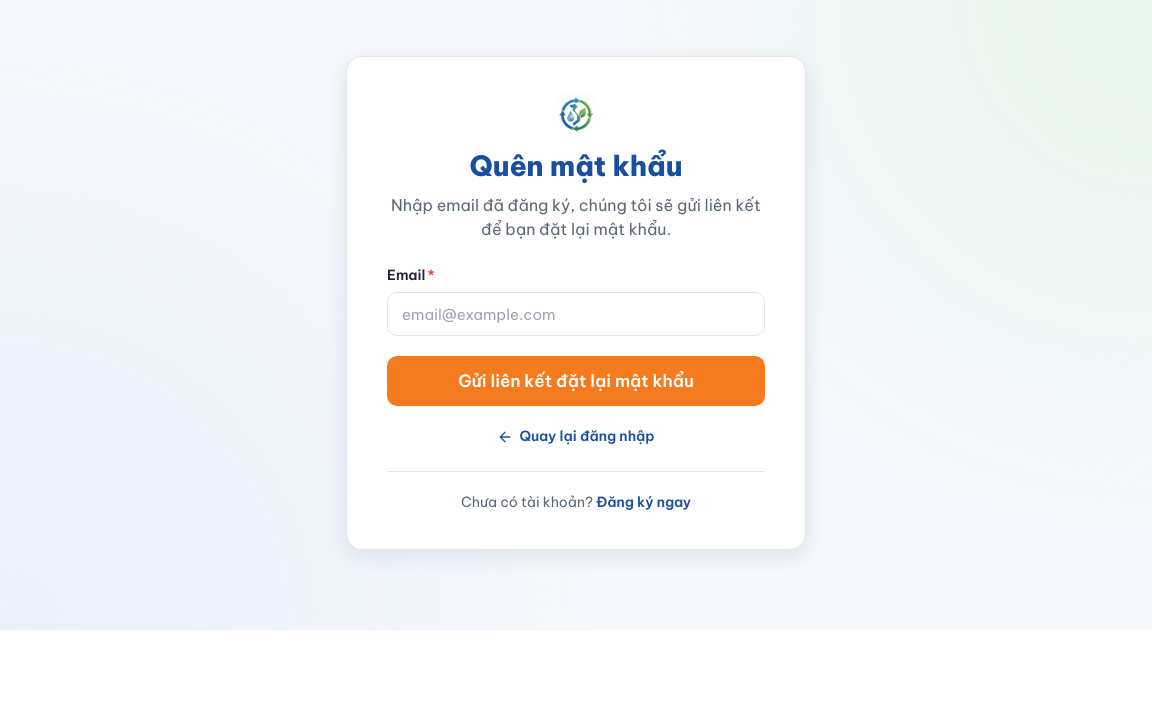
Scenario: ForgotPasswordPage › validates the email
The width and height of the screenshot is (1152, 720).
Type "an@" into the field labelled "Email*" at (576, 314), box x1=387 y1=292 x2=765 y2=336
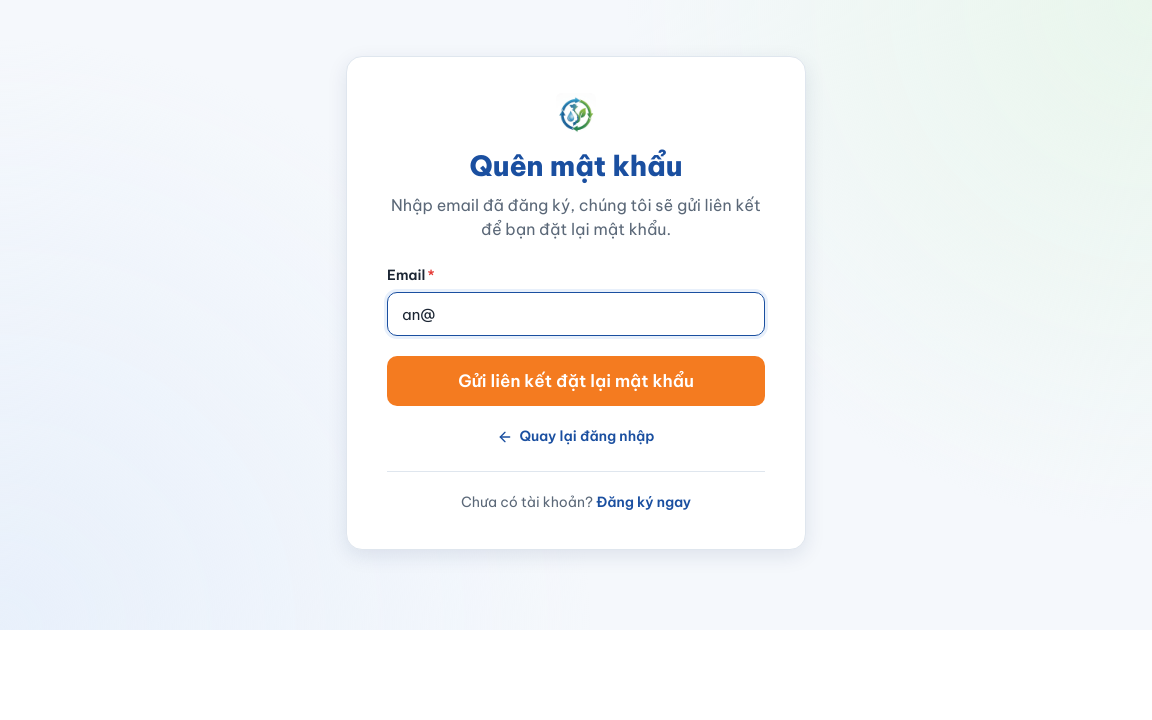
Click the button "Gửi liên kết đặt lại mật khẩu" at (576, 381), box x1=387 y1=356 x2=765 y2=406
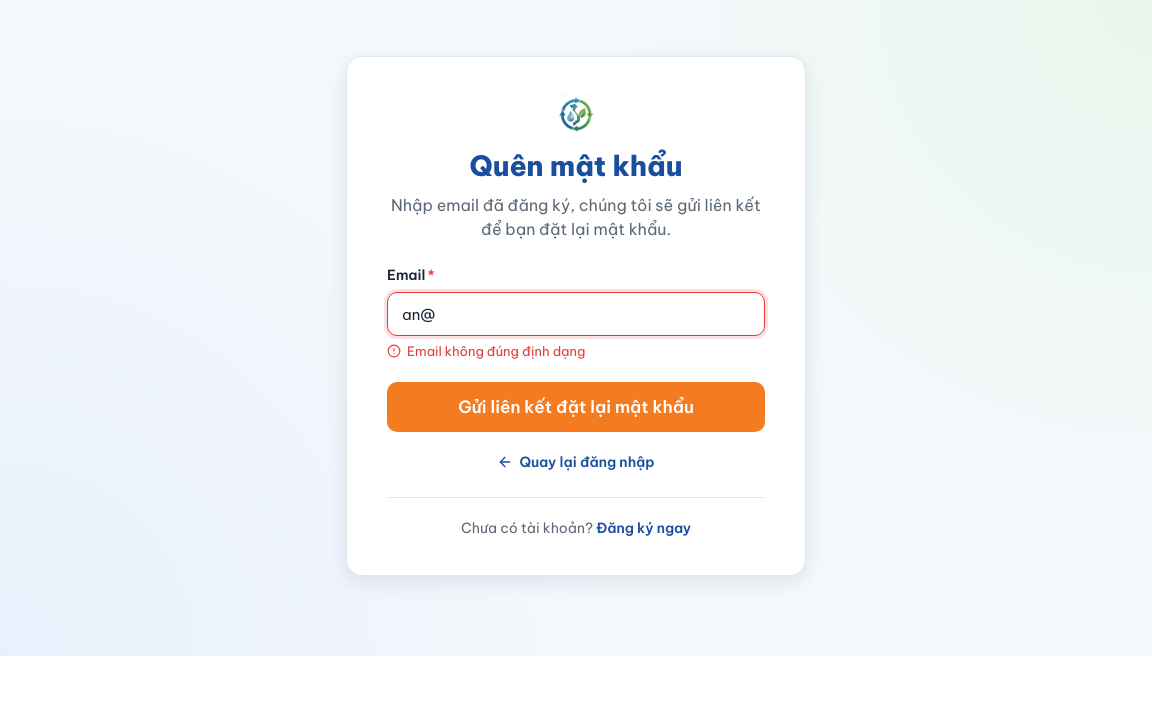
Expected: the text "Email không đúng định dạng" is shown, x1=387 y1=343 x2=585 y2=359
